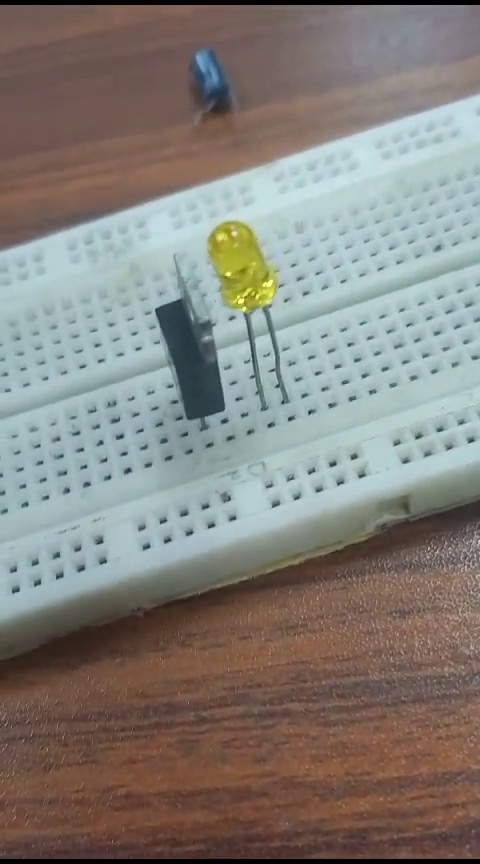LED: (207, 220, 302, 413)
voltage regulator: (146, 253, 223, 437)
